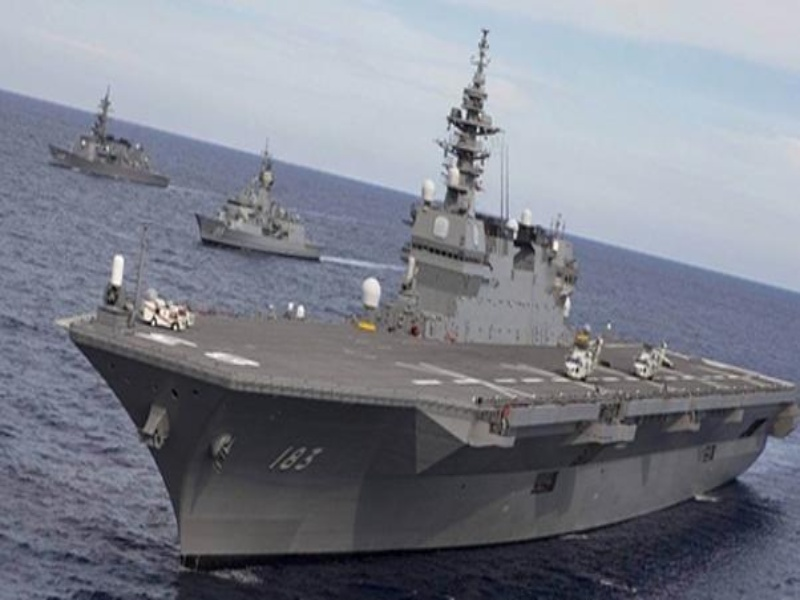carrier: (91, 174, 792, 564)
cruise: (197, 155, 326, 264), (55, 91, 174, 193)
